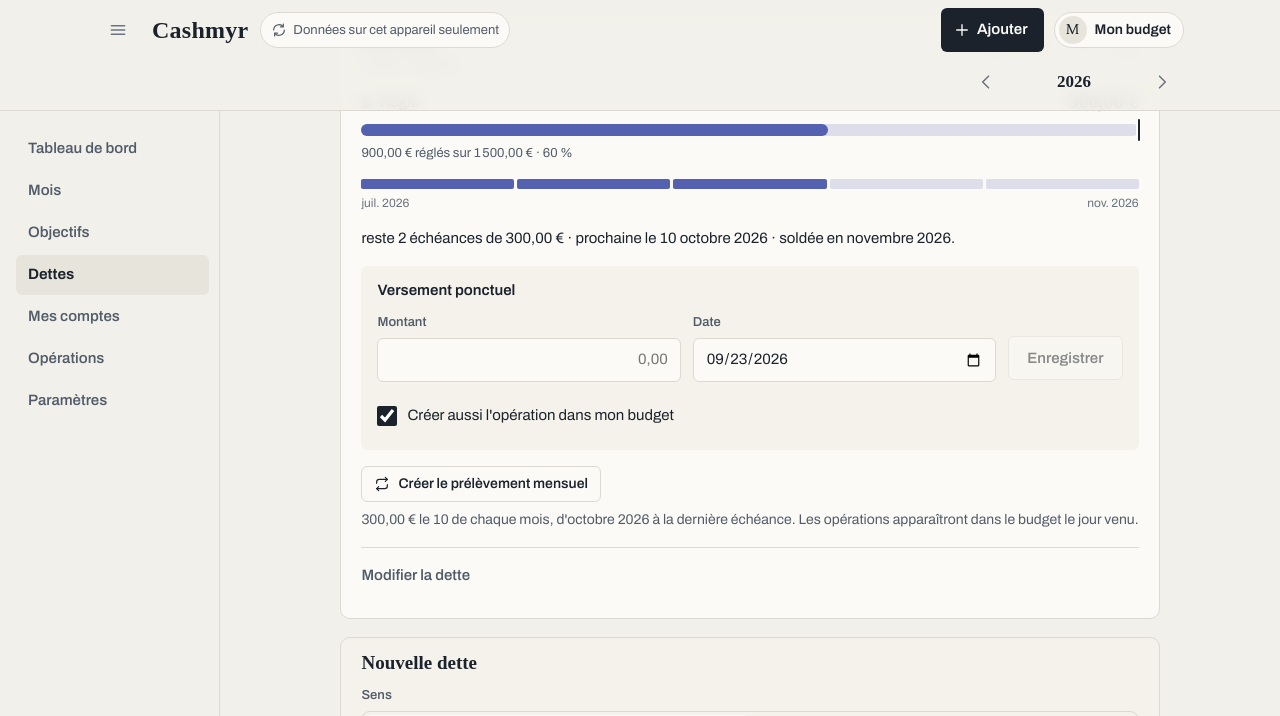
Test: versement ponctuel › 1 500 € en 5 × 300 €, 900 € réglés, versement de 525 € : il reste une seule échéance, de 75 €
This screenshot has width=1280, height=716.
(page scrolled)
Expected: the text "Versement ponctuel" is shown, [377, 282, 515, 298]
Expected: the date field labelled "Date" holds "2026-09-23", [693, 338, 996, 382]
In the field labelled "Montant": (529, 360) [377, 338, 681, 382], type "525"
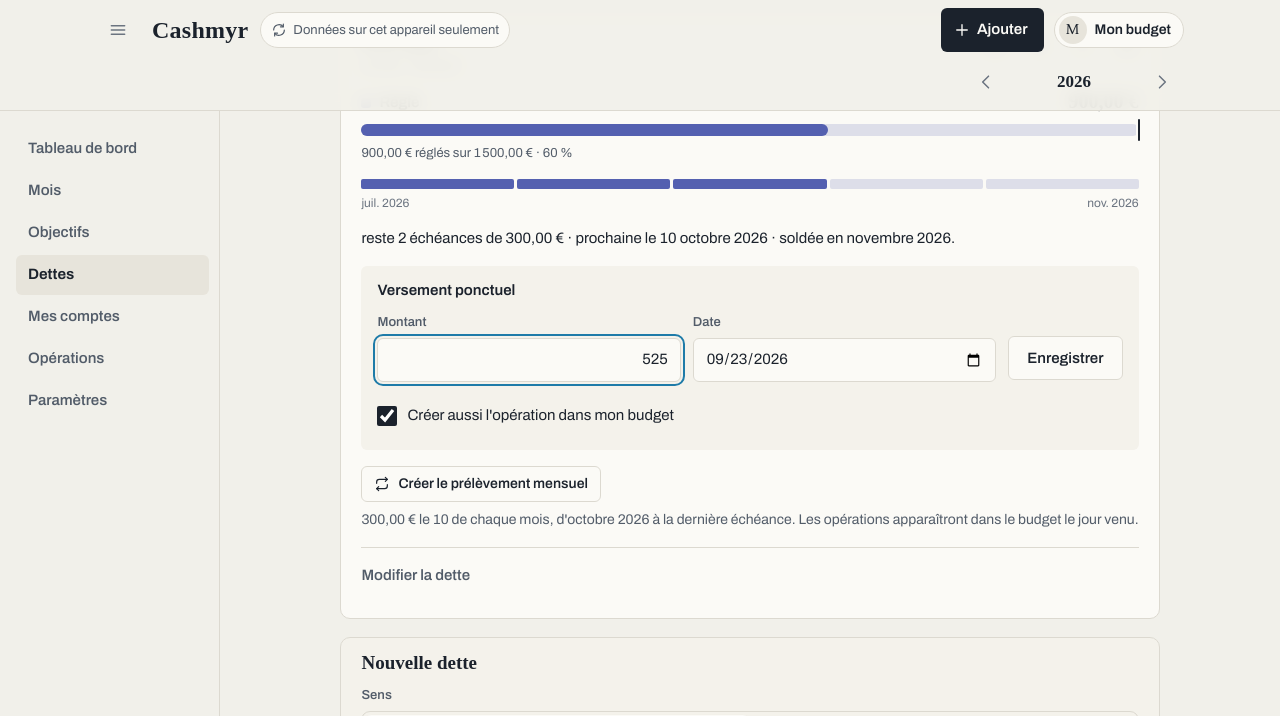
Click the button "Enregistrer": (1065, 358) [1008, 336, 1123, 380]
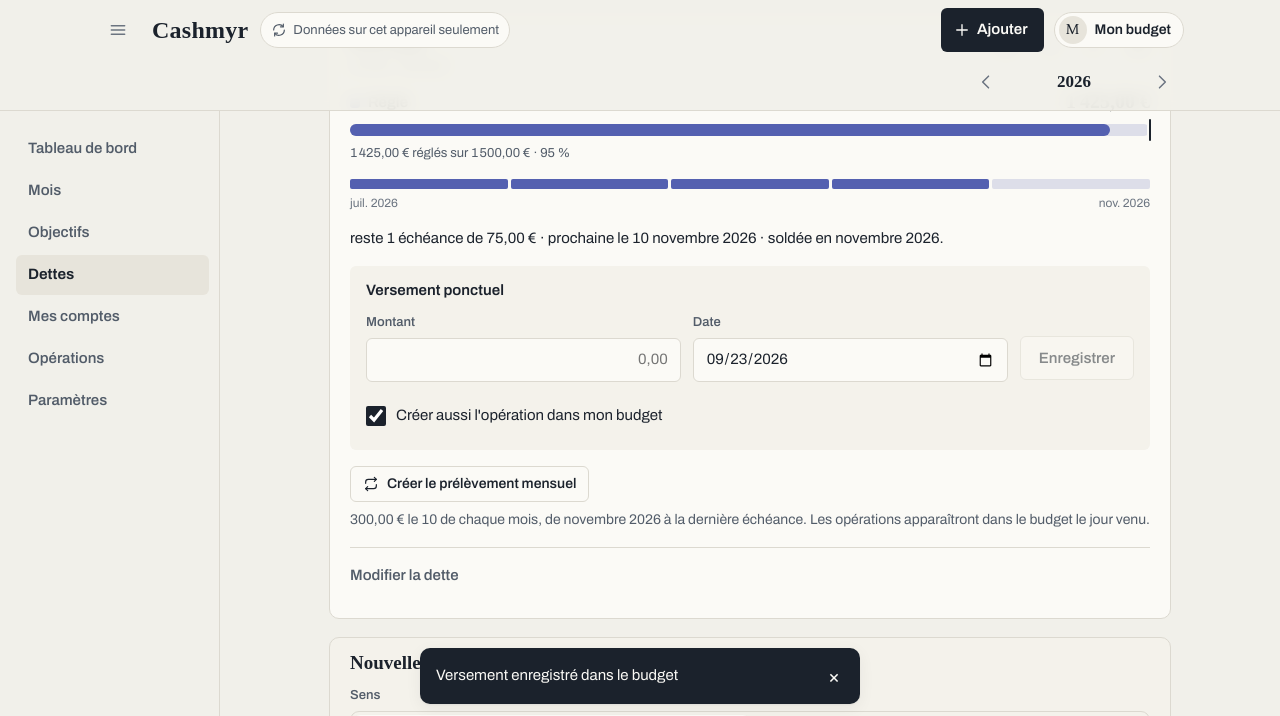
Now the text "Versement enregistré dans le budget" is shown, box [436, 665, 678, 687]
Now the text "reste" shows "reste 1 échéance de 75,00 € · prochaine le 10 novembre 2026 · soldée en novembre 2026.", box [350, 230, 944, 246]
